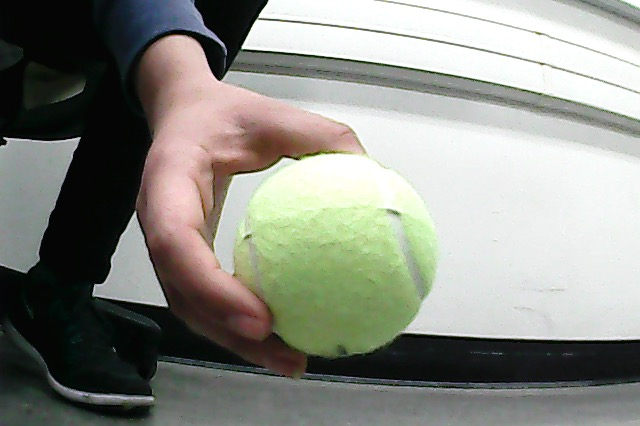ball: (235, 155, 437, 357)
